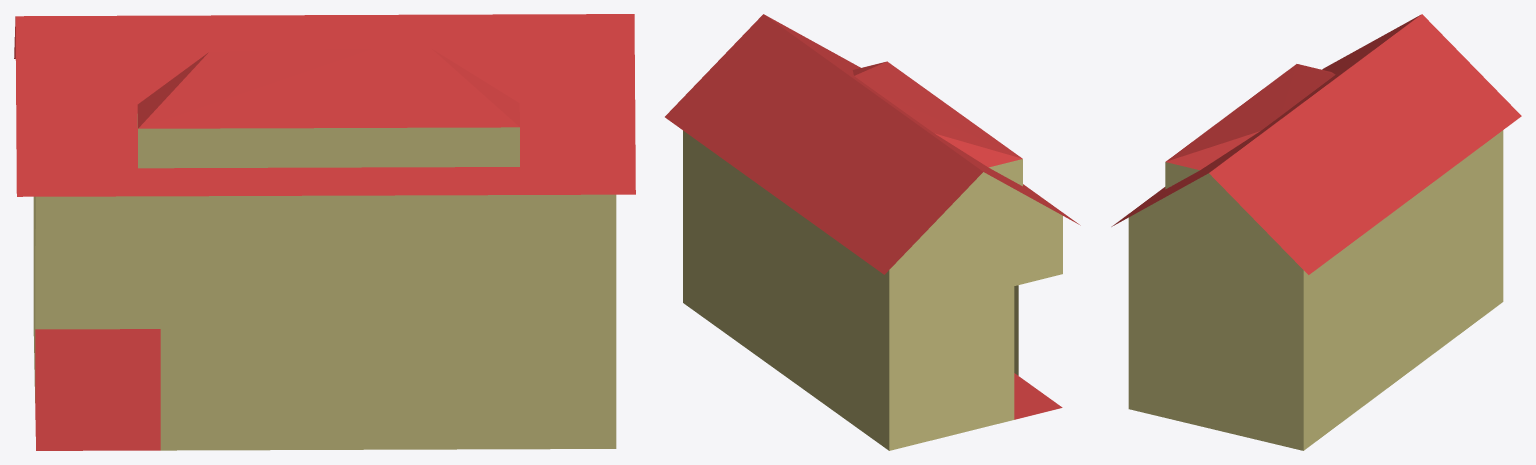
The picture shows the model from 3 angles, left to right: view 1: azimuth 30°, elevation 25°; view 2: azimuth 150°, elevation 25°; view 3: azimuth 270°, elevation 25°; orthographic projection. The views are drawn at different scales.
Parts seen in each view (by area): view 1: group_7, group_3, group_4, group_5, group_8, group_6; view 2: group_7, group_3, group_4, group_6, group_8, group_5; view 3: group_7, group_3, group_4, group_6, group_5.
Part boxes in pixels (x1,y1,x2,y2): group_7: (33,194,616,450); group_3: (14,14,635,196); group_4: (137,48,519,128); group_5: (137,114,519,168); group_8: (35,329,160,450); group_6: (15,16,635,196); group_7: (683,130,1062,450); group_3: (665,14,1080,274); group_4: (852,61,1022,167); group_6: (666,16,1073,273); group_8: (1014,373,1062,419); group_5: (989,159,1022,186); group_7: (1128,130,1503,450); group_3: (1111,14,1521,274); group_4: (1165,64,1335,170); group_6: (1120,15,1518,273); group_5: (1165,162,1199,189).
Bounding box in the file's own units: 27.03 × 22.76 × 15.96.
